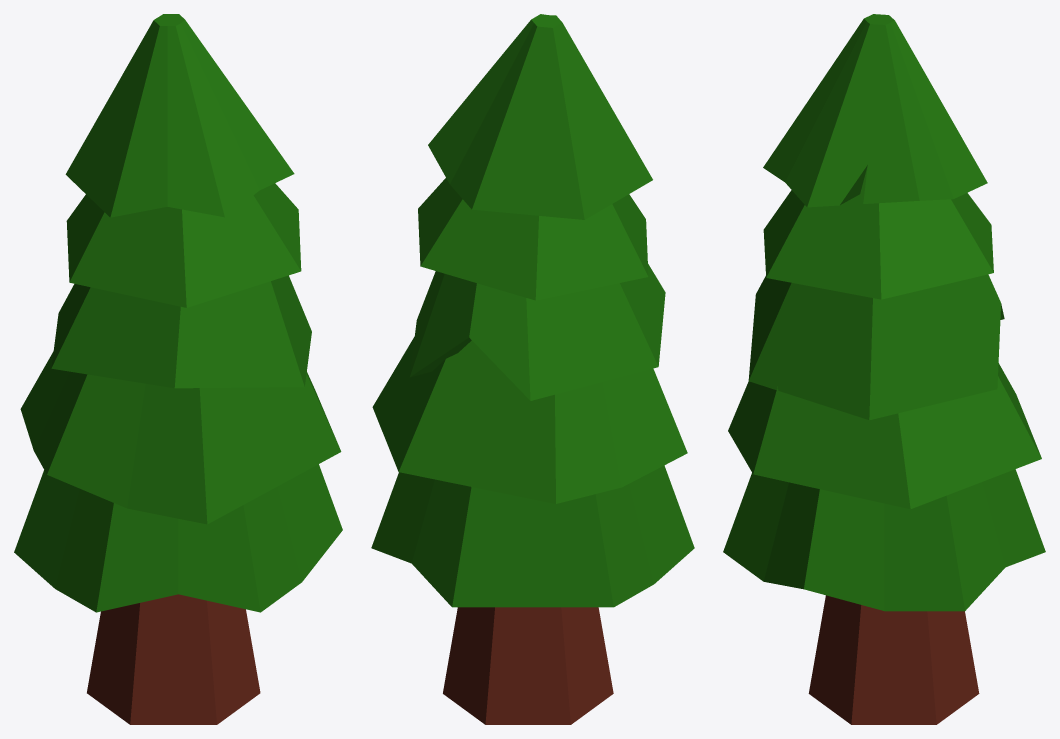
The model's file is tree.glb.
3 renders of one model, left to right at view 1: azimuth 30°, elevation 25°; view 2: azimuth 150°, elevation 25°; view 3: azimuth 270°, elevation 25°, orthographic.
Visible parts, largest first — view 1: Cylinder.002, Cylinder.001, Cylinder.005, Cylinder.003, Cylinder.004, Cylinder; view 2: Cylinder.002, Cylinder.001, Cylinder.005, Cylinder.003, Cylinder.004, Cylinder; view 3: Cylinder.001, Cylinder.003, Cylinder.002, Cylinder.005, Cylinder.004, Cylinder.
Boxes of the visible parts, left/top/right/bottom form: Cylinder.002: left=20, top=351, right=341, bottom=524; Cylinder.001: left=14, top=464, right=342, bottom=612; Cylinder.005: left=65, top=14, right=294, bottom=217; Cylinder.003: left=51, top=275, right=311, bottom=388; Cylinder.004: left=66, top=183, right=301, bottom=307; Cylinder: left=87, top=594, right=260, bottom=724; Cylinder.002: left=372, top=337, right=687, bottom=503; Cylinder.001: left=371, top=465, right=694, bottom=607; Cylinder.005: left=428, top=14, right=652, bottom=219; Cylinder.003: left=409, top=264, right=665, bottom=400; Cylinder.004: left=418, top=178, right=648, bottom=300; Cylinder: left=443, top=607, right=613, bottom=724; Cylinder.001: left=723, top=469, right=1045, bottom=611; Cylinder.003: left=748, top=274, right=1004, bottom=420; Cylinder.002: left=728, top=363, right=1041, bottom=509; Cylinder.005: left=763, top=14, right=987, bottom=207; Cylinder.004: left=763, top=190, right=993, bottom=299; Cylinder: left=808, top=595, right=979, bottom=724.
Size of the model in its own units: 0.6496 by 1.44 by 0.6288.
